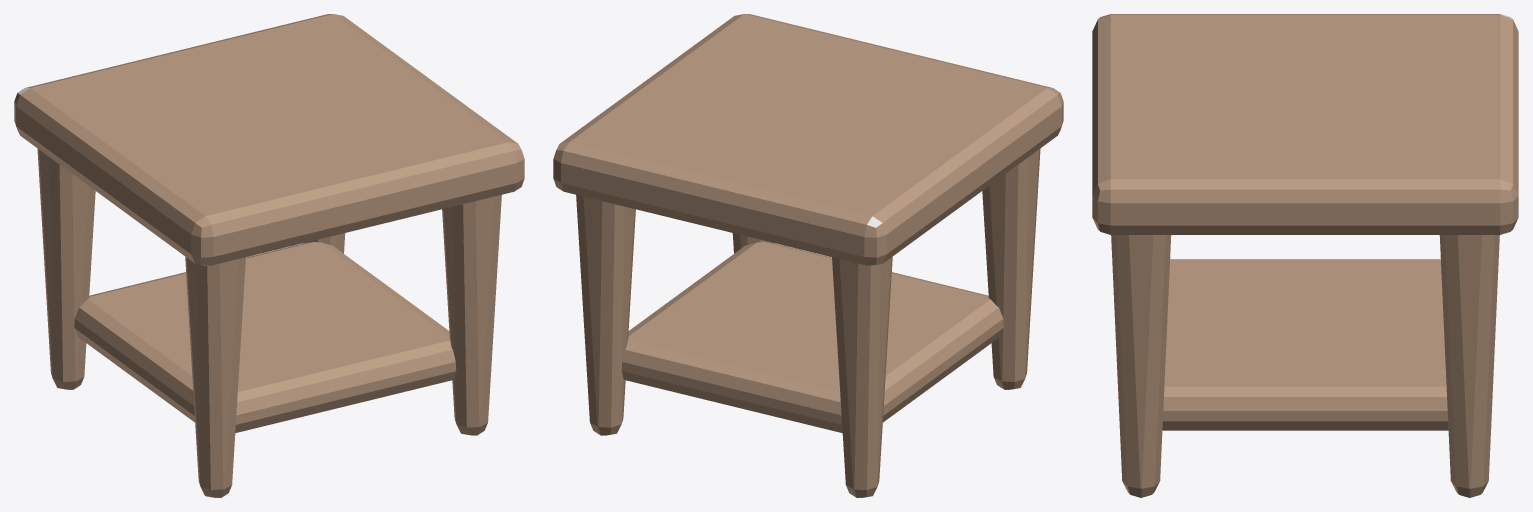
File: Meja_Sudut.fbx
The picture shows the model from 3 angles, left to right: view 1: azimuth 30°, elevation 25°; view 2: azimuth 150°, elevation 25°; view 3: azimuth 270°, elevation 25°; orthographic projection. The views are drawn at different scales.
Parts seen in each view (by area): view 1: Cube.003; view 2: Cube.003; view 3: Cube.003.
Part boxes in pixels (x1=…): Cube.003: x1=14, y1=14, x2=524, y2=497; Cube.003: x1=553, y1=14, x2=1063, y2=497; Cube.003: x1=1092, y1=14, x2=1518, y2=497.
Bounding box in the file's own units: 70 × 60 × 70.
